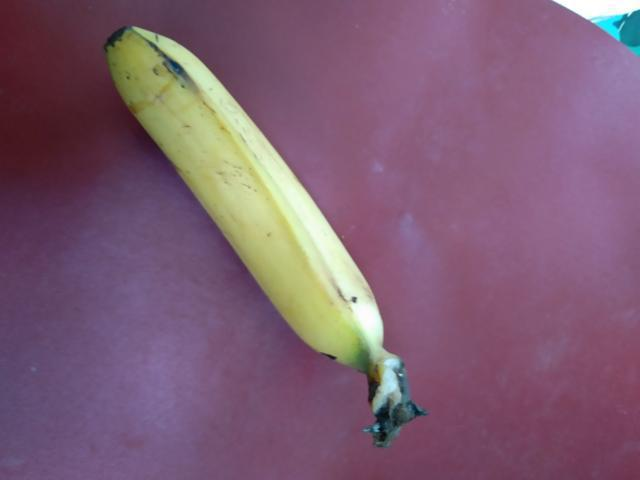ripe: (96, 18, 378, 381)
